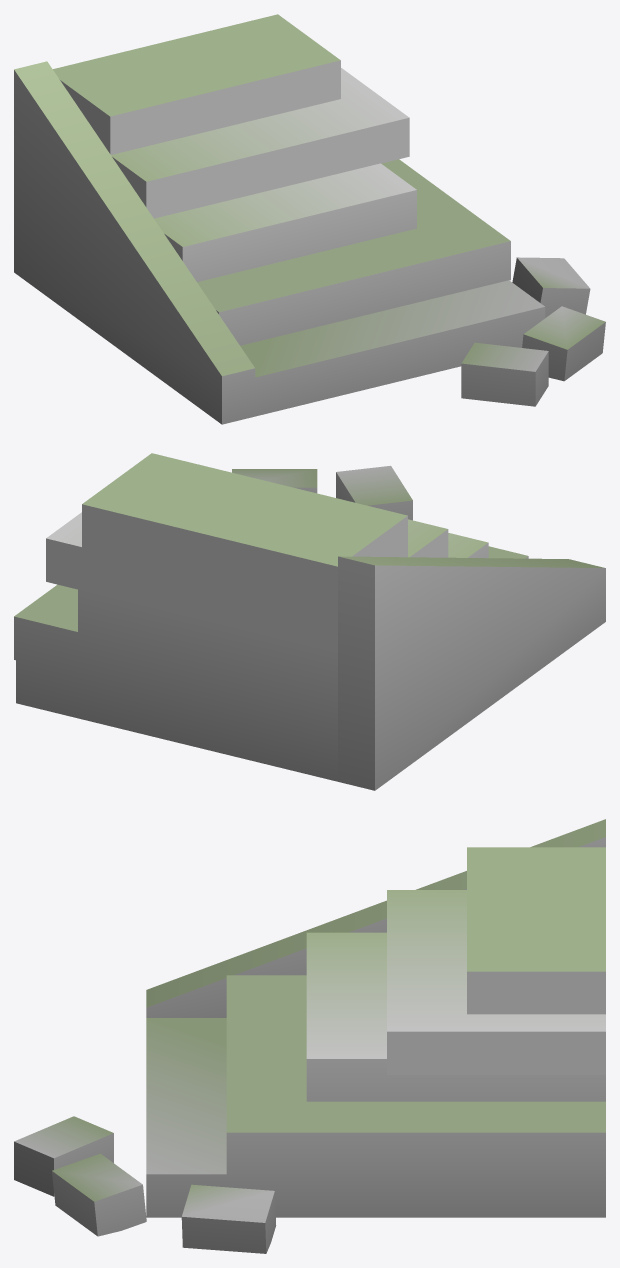
File: stairs_broken.glb
3 views of the same model, one above another, from view 1: azimuth 30°, elevation 25°; view 2: azimuth 150°, elevation 25°; view 3: azimuth 270°, elevation 25° (orthographic). The views are drawn at different scales.
Parts seen in each view (by area): view 1: stairs_broken; view 2: stairs_broken; view 3: stairs_broken.
Part boxes in pixels (bbox=[...]): stairs_broken: bbox=[14, 14, 605, 424]; stairs_broken: bbox=[14, 453, 605, 790]; stairs_broken: bbox=[14, 819, 605, 1253].
Size of the model in its own units: 2.14 by 1.05 by 2.51.
